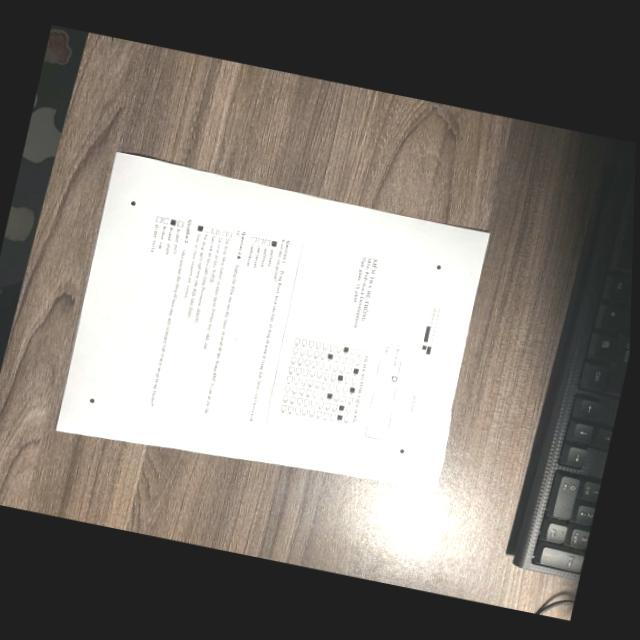Markers: (89, 397, 95, 403), (129, 200, 135, 206), (436, 264, 441, 269), (400, 448, 405, 453)
